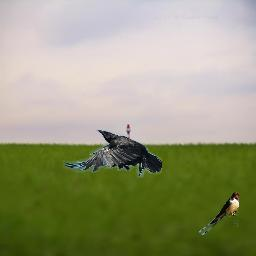Crow: (62, 129, 162, 178)
Swallow: (199, 192, 239, 235)
